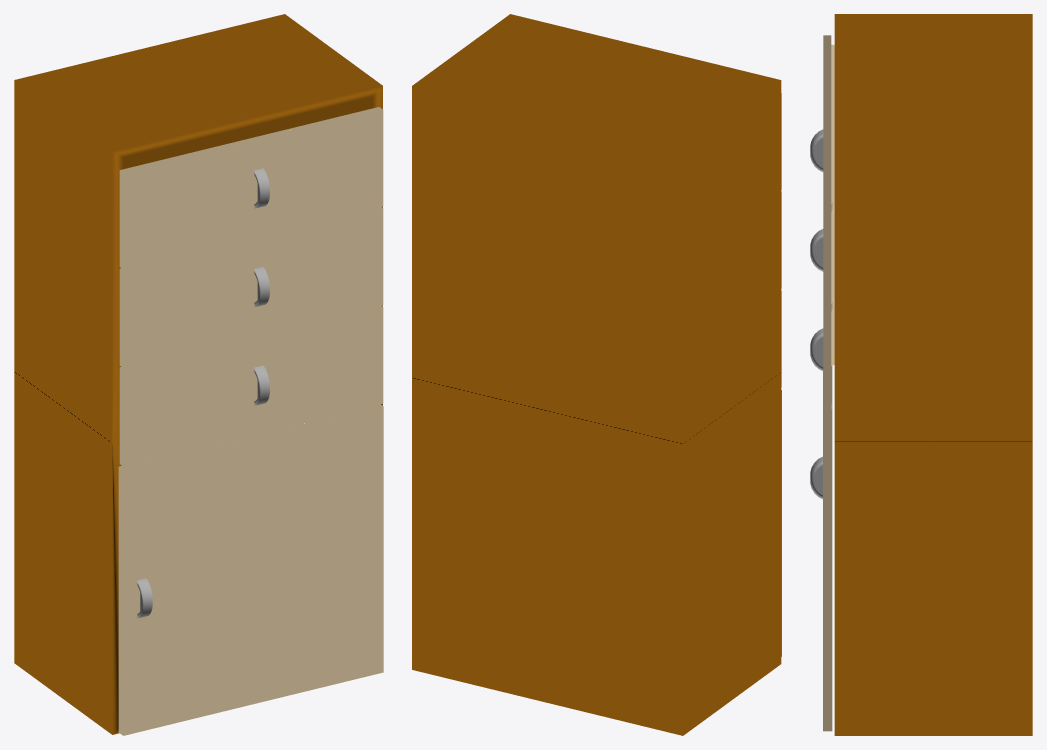
Rendered from dresser2.fbx.
3 renders of one model, left to right at view 1: azimuth 30°, elevation 25°; view 2: azimuth 150°, elevation 25°; view 3: azimuth 270°, elevation 25°, orthographic.
Parts seen in each view (by area): view 1: polySurface1; view 2: polySurface1; view 3: polySurface1.
Boxes of the visible parts, <box> form: polySurface1: <box>14,14,383,735</box>; polySurface1: <box>412,14,781,735</box>; polySurface1: <box>810,14,1032,735</box>.
Size of the model in its own units: 12.05 by 24.81 by 8.5.
